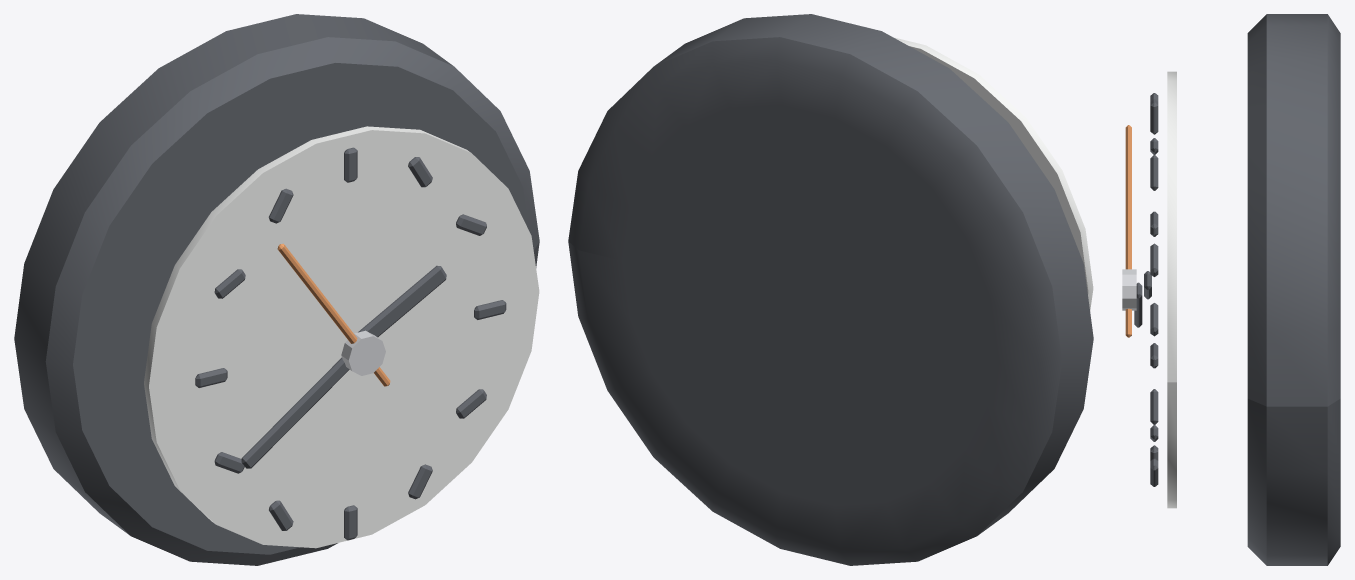
File: university-lecture-hall-and-campus-wall-clock-2e294b37__34741.glb
3 views of the same model, side by side, from view 1: azimuth 30°, elevation 25°; view 2: azimuth 150°, elevation 25°; view 3: azimuth 270°, elevation 25° (orthographic). The views are drawn at different scales.
Parts seen in each view (by area): view 1: wall-clock; view 2: wall-clock; view 3: wall-clock.
Part boxes in pixels (bbox=[...]): wall-clock: bbox=[14, 14, 539, 565]; wall-clock: bbox=[568, 14, 1093, 565]; wall-clock: bbox=[1122, 14, 1340, 565].
Size of the model in its own units: 0.344 by 0.3405 by 0.136.
